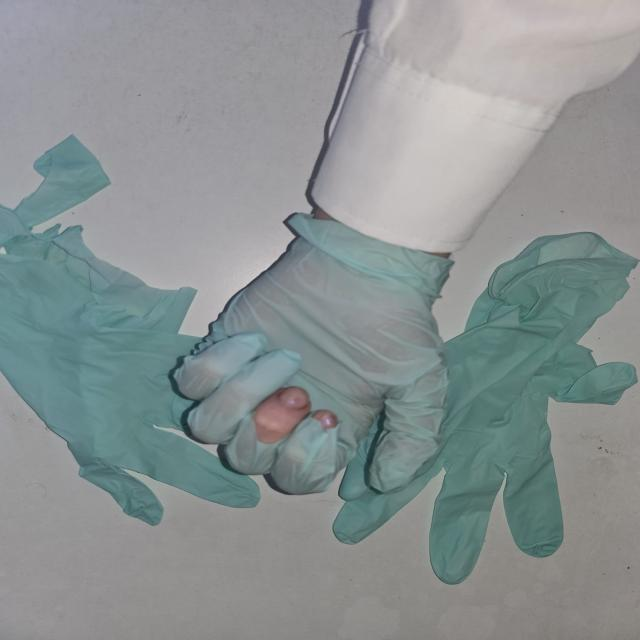gloves_damaged: (171, 211, 455, 494)
